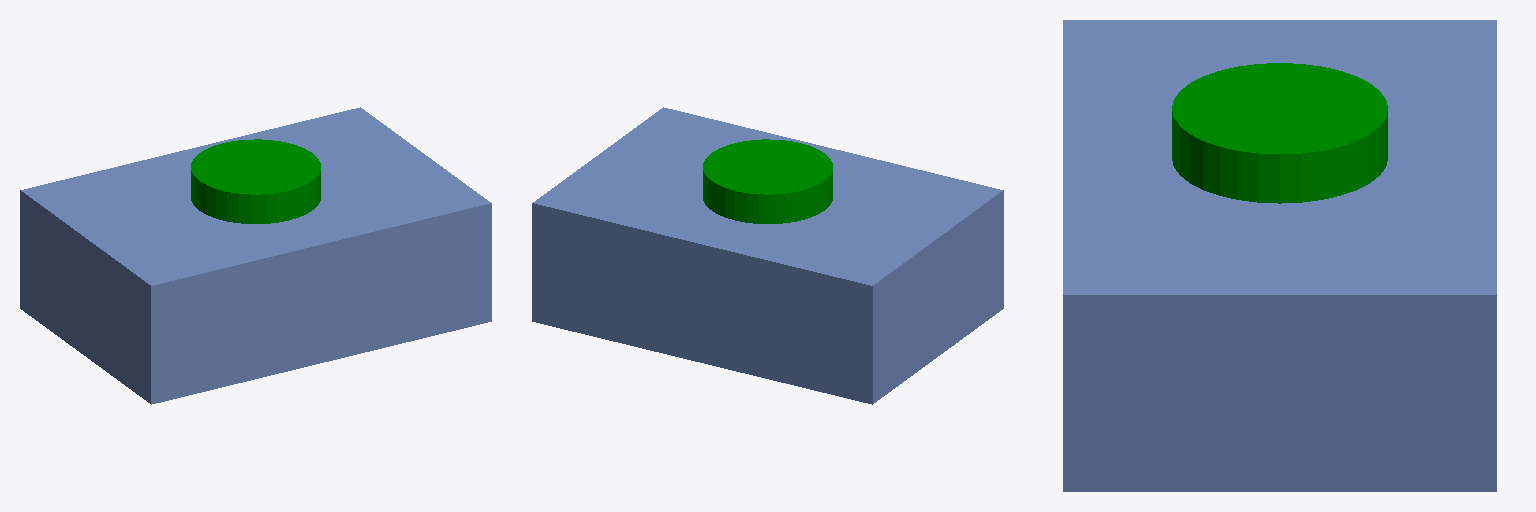
The robot description file, URDF, robot "robot_trial":
<?xml version="1.0"?>
<robot name="robot_trial">
    <!-- Create a list of material -->
    <material name ="something">
        <color rgba ="0.5 0.6 0.8 1"/>
    </material>

    <material name = "green">
        <color rgba ="0 0.6 0 1"/>
    </material>

    <material name = "else">
        <color rgba ="0.8 0.2 0.1 1"/>
    </material>

    <!-- Create the main body -->
    <!-- Create the base footprint - the reference of the ground -->
    <link name ="base_footprint"/>

    <!-- The first link should always be called as base_link -->
    <link name="base_link">
        <visual>
            <geometry>
                <box size= "0.6 0.4 0.2"/>
            </geometry>
            <origin xyz="0 0 0" rpy="0 0 0"/>
            <material name="something"/>
        </visual>
    </link>

    <link name= "lidar_link">
        <visual>
            <geometry>
                <cylinder radius="0.1" length="0.05"/>
            </geometry>
            <origin xyz ="0 0 0" rpy="0 0 0"/>
            <material name="green"/>
        </visual>
    </link>

    <link name ="wheel">
        <visual>
            <geometry>
                <cylinder radius ="0.1" length="0.05"/>
            </geometry>
            <origin xyz="0 0 0" rpy= "0 0 0"/>
            <material name="else"/>
        </visual>
    </link>

    <joint name="base_lidar_joint" type="fixed">
        <parent link ="base_link"/>
        <child link = "lidar_link"/>
        <!-- This is important to make sure links are properly located -->
        <origin xyz = "0 0 0.125" rpy="0 0 0"/>
    </joint>

    <joint name="base_wheel_joint" type= "continuous">
        <parent link="base_link"/>
        <child link="wheel"/>
        <origin xyz = "-0.15 0 0" rpy="0 0 0"/>
        <!-- Provide the axis of rotation -->
        <axis xyz ="0 0 0.5"/>
    </joint>

    <!-- Create the joint between the ground and the robot -->
    <joint name="base_joint" type="fixed">
        <parent link ="base_footprint"/>
        <child link = "base_link"/>
        <origin xyz = "0 0 0.1" rpy="0 0 0"/>
    </joint>

</robot>

--- Facts derived from the render (not from the file) ---
3 views of the same robot in one strip: view 1: azimuth 30°, elevation 25°; view 2: azimuth 150°, elevation 25°; view 3: azimuth 270°, elevation 25° (orthographic).
Model robot_trial with 4 links and 3 joints (1 continuous, 2 fixed), rooted at base_footprint, posed every joint at zero.
Visible links, largest first — view 1: base_link, lidar_link; view 2: base_link, lidar_link; view 3: base_link, lidar_link.
Link boxes in pixels (box(x1,y1,x2,y2)): base_link: box(20, 107, 491, 404); lidar_link: box(191, 139, 320, 223); base_link: box(532, 107, 1003, 404); lidar_link: box(703, 139, 832, 223); base_link: box(1063, 20, 1496, 491); lidar_link: box(1172, 63, 1387, 203).
Bounding box of the posed robot: 0.6 × 0.4 × 0.25 m (x, y, z).
Geometry: primitives only (box / cylinder / sphere), no mesh files.
